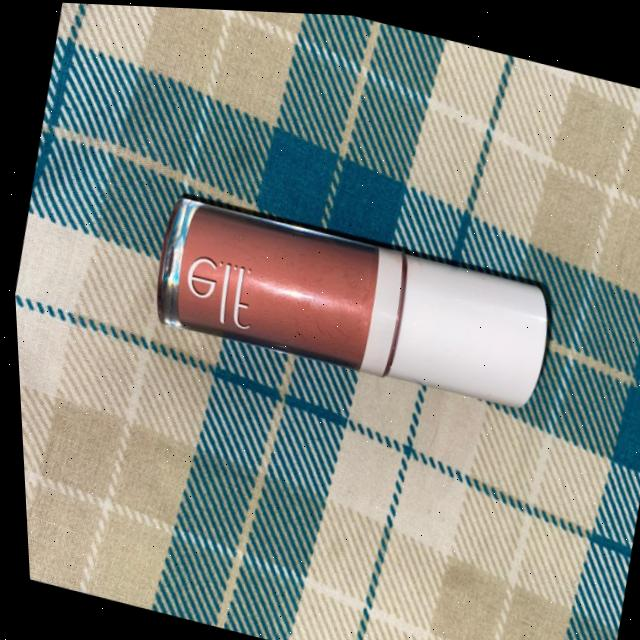lip gloss: (116, 133, 588, 439)
